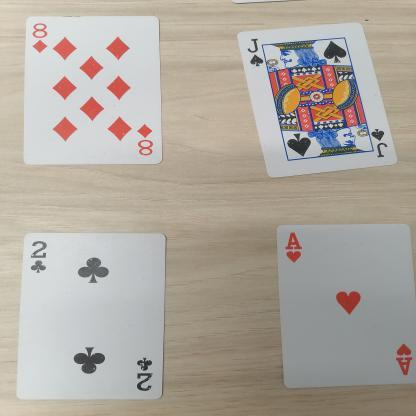2C: (28, 237, 53, 278), (135, 356, 159, 396)
8D: (27, 18, 52, 56), (134, 119, 155, 157)
AH: (278, 224, 312, 274), (391, 342, 414, 378)
JS: (240, 33, 271, 70), (370, 123, 395, 162)
